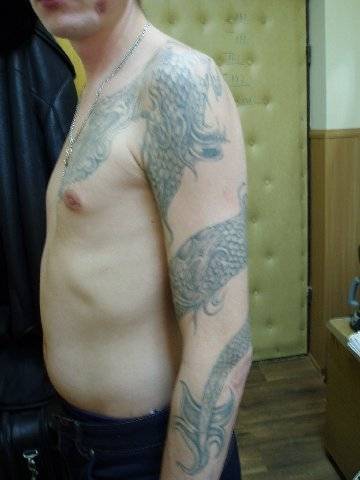tatu6_drakon: (62, 46, 279, 479)
